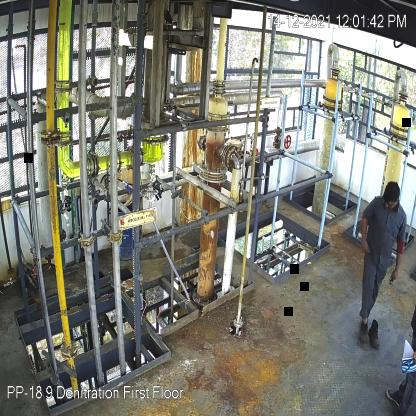shoes: (369, 319, 382, 352), (358, 322, 369, 350)
